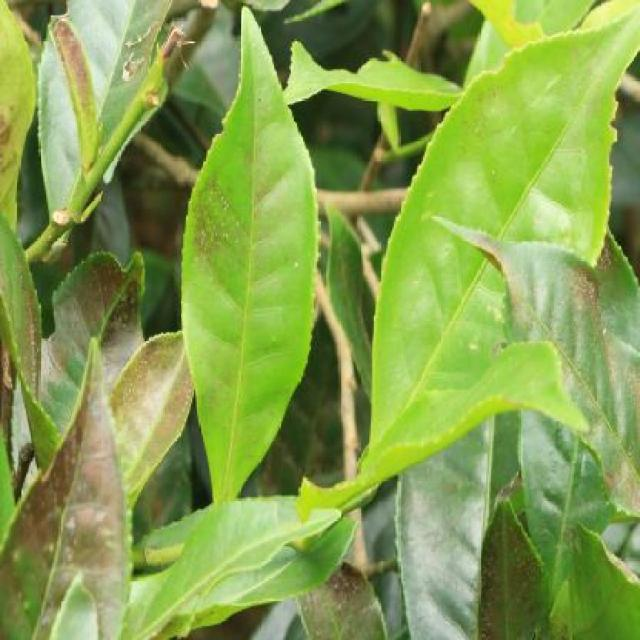Red Spider infested tea leaf: (2, 218, 206, 640), (438, 223, 640, 500), (189, 43, 317, 463)
